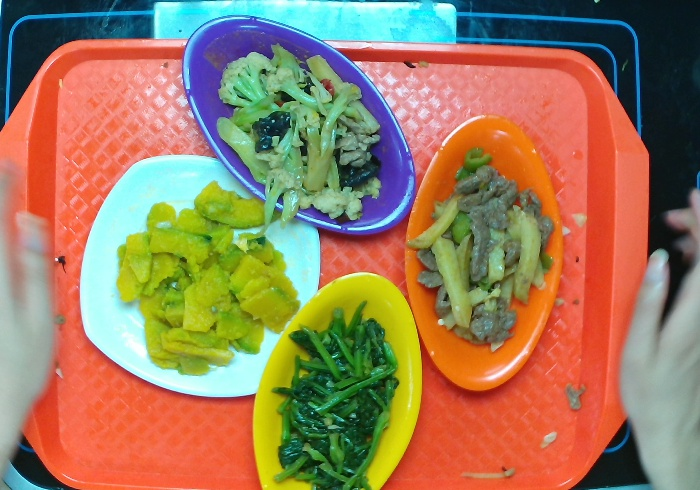RJxy-Fen_Hong_Tuo_Yuan: (183, 14, 416, 240)
RJxy-Huang_Se_Tuo_Yuan: (251, 270, 425, 490)
RJxy-Ju_Huang_Tuo_Yuan: (403, 114, 566, 391)
RJxy-Si_Fang_Die: (78, 151, 322, 398)
